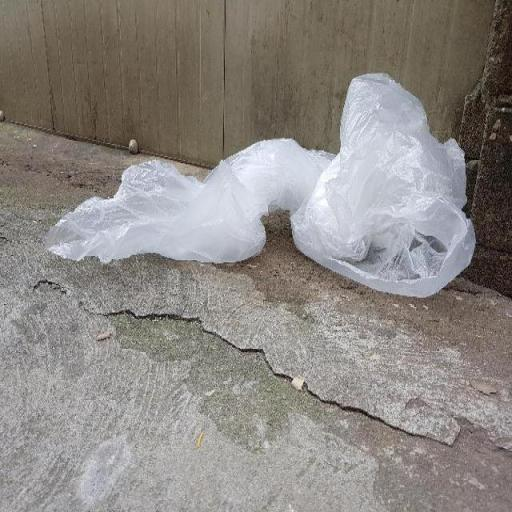plastic-bag: (40, 69, 479, 302)
